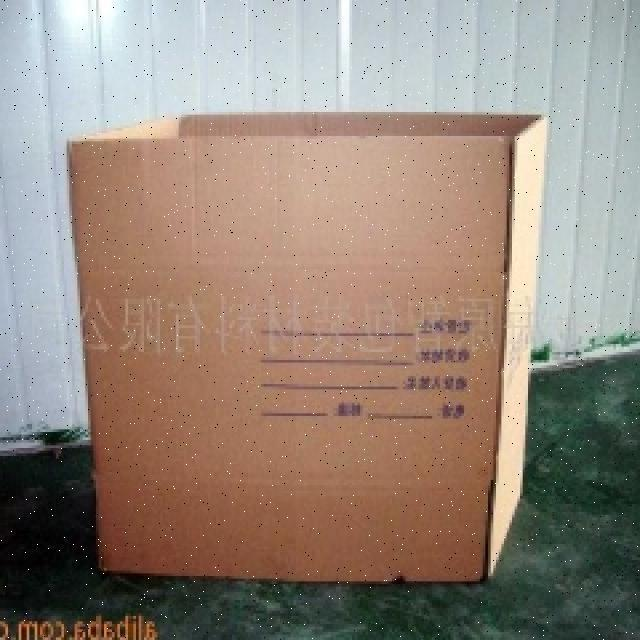box: (49, 74, 558, 599)
